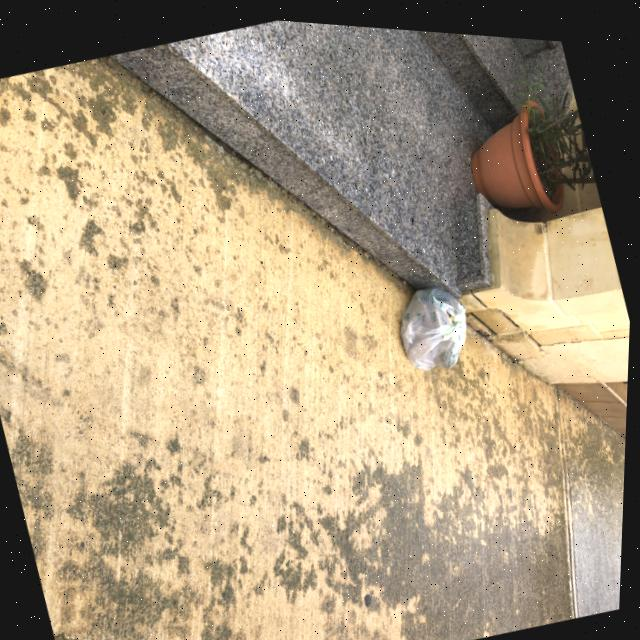Organic Waste -White Bag-: (385, 266, 482, 379)
